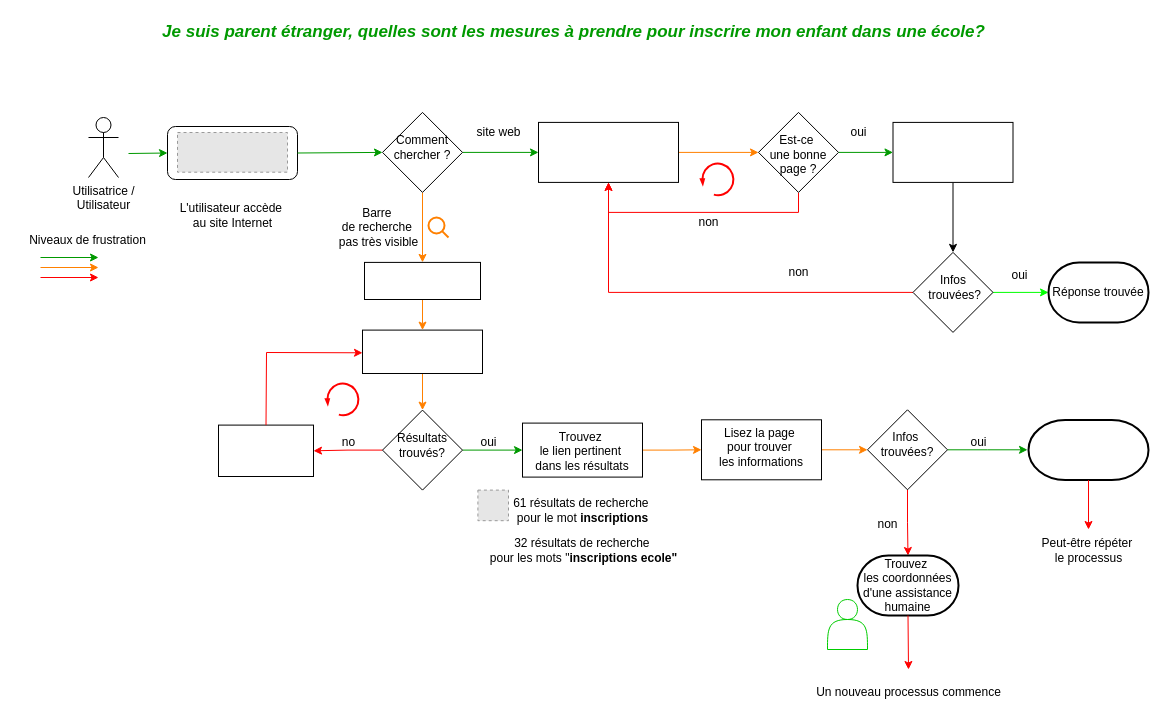
The diagram is 1166 pixels wide and 724 high, and some of its shapes have lost their labels. Grey dashed boxes stand in for pictures. The box of each missing label's shape, as (x1, y1, x2, y2) in pixels:
Allez à la barre de recherche: (364, 261, 480, 300)
Choisissez une page dans laquelle continuer la recherche: (538, 121, 678, 182)
Parcourez la page pour trouver la réponse: (892, 121, 1013, 182)
Pensez à un nouveau mot-clé: (218, 424, 314, 476)
Peut-être que les informations ne sont pas complètes: (1027, 419, 1149, 481)
Recherchez par mots-clés: (362, 329, 482, 374)
